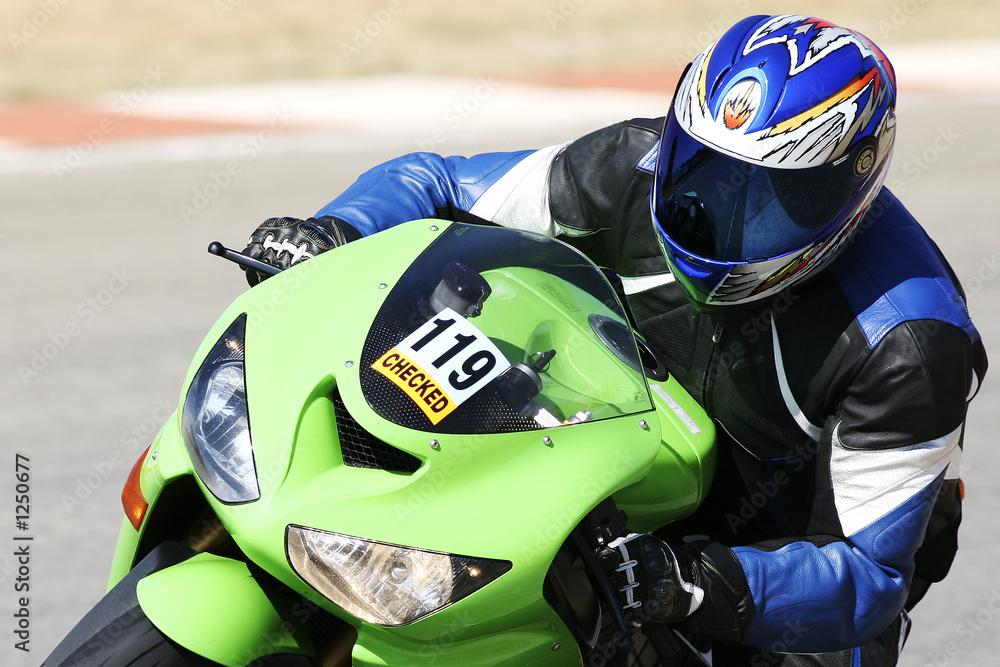helmet: (648, 12, 899, 317)
